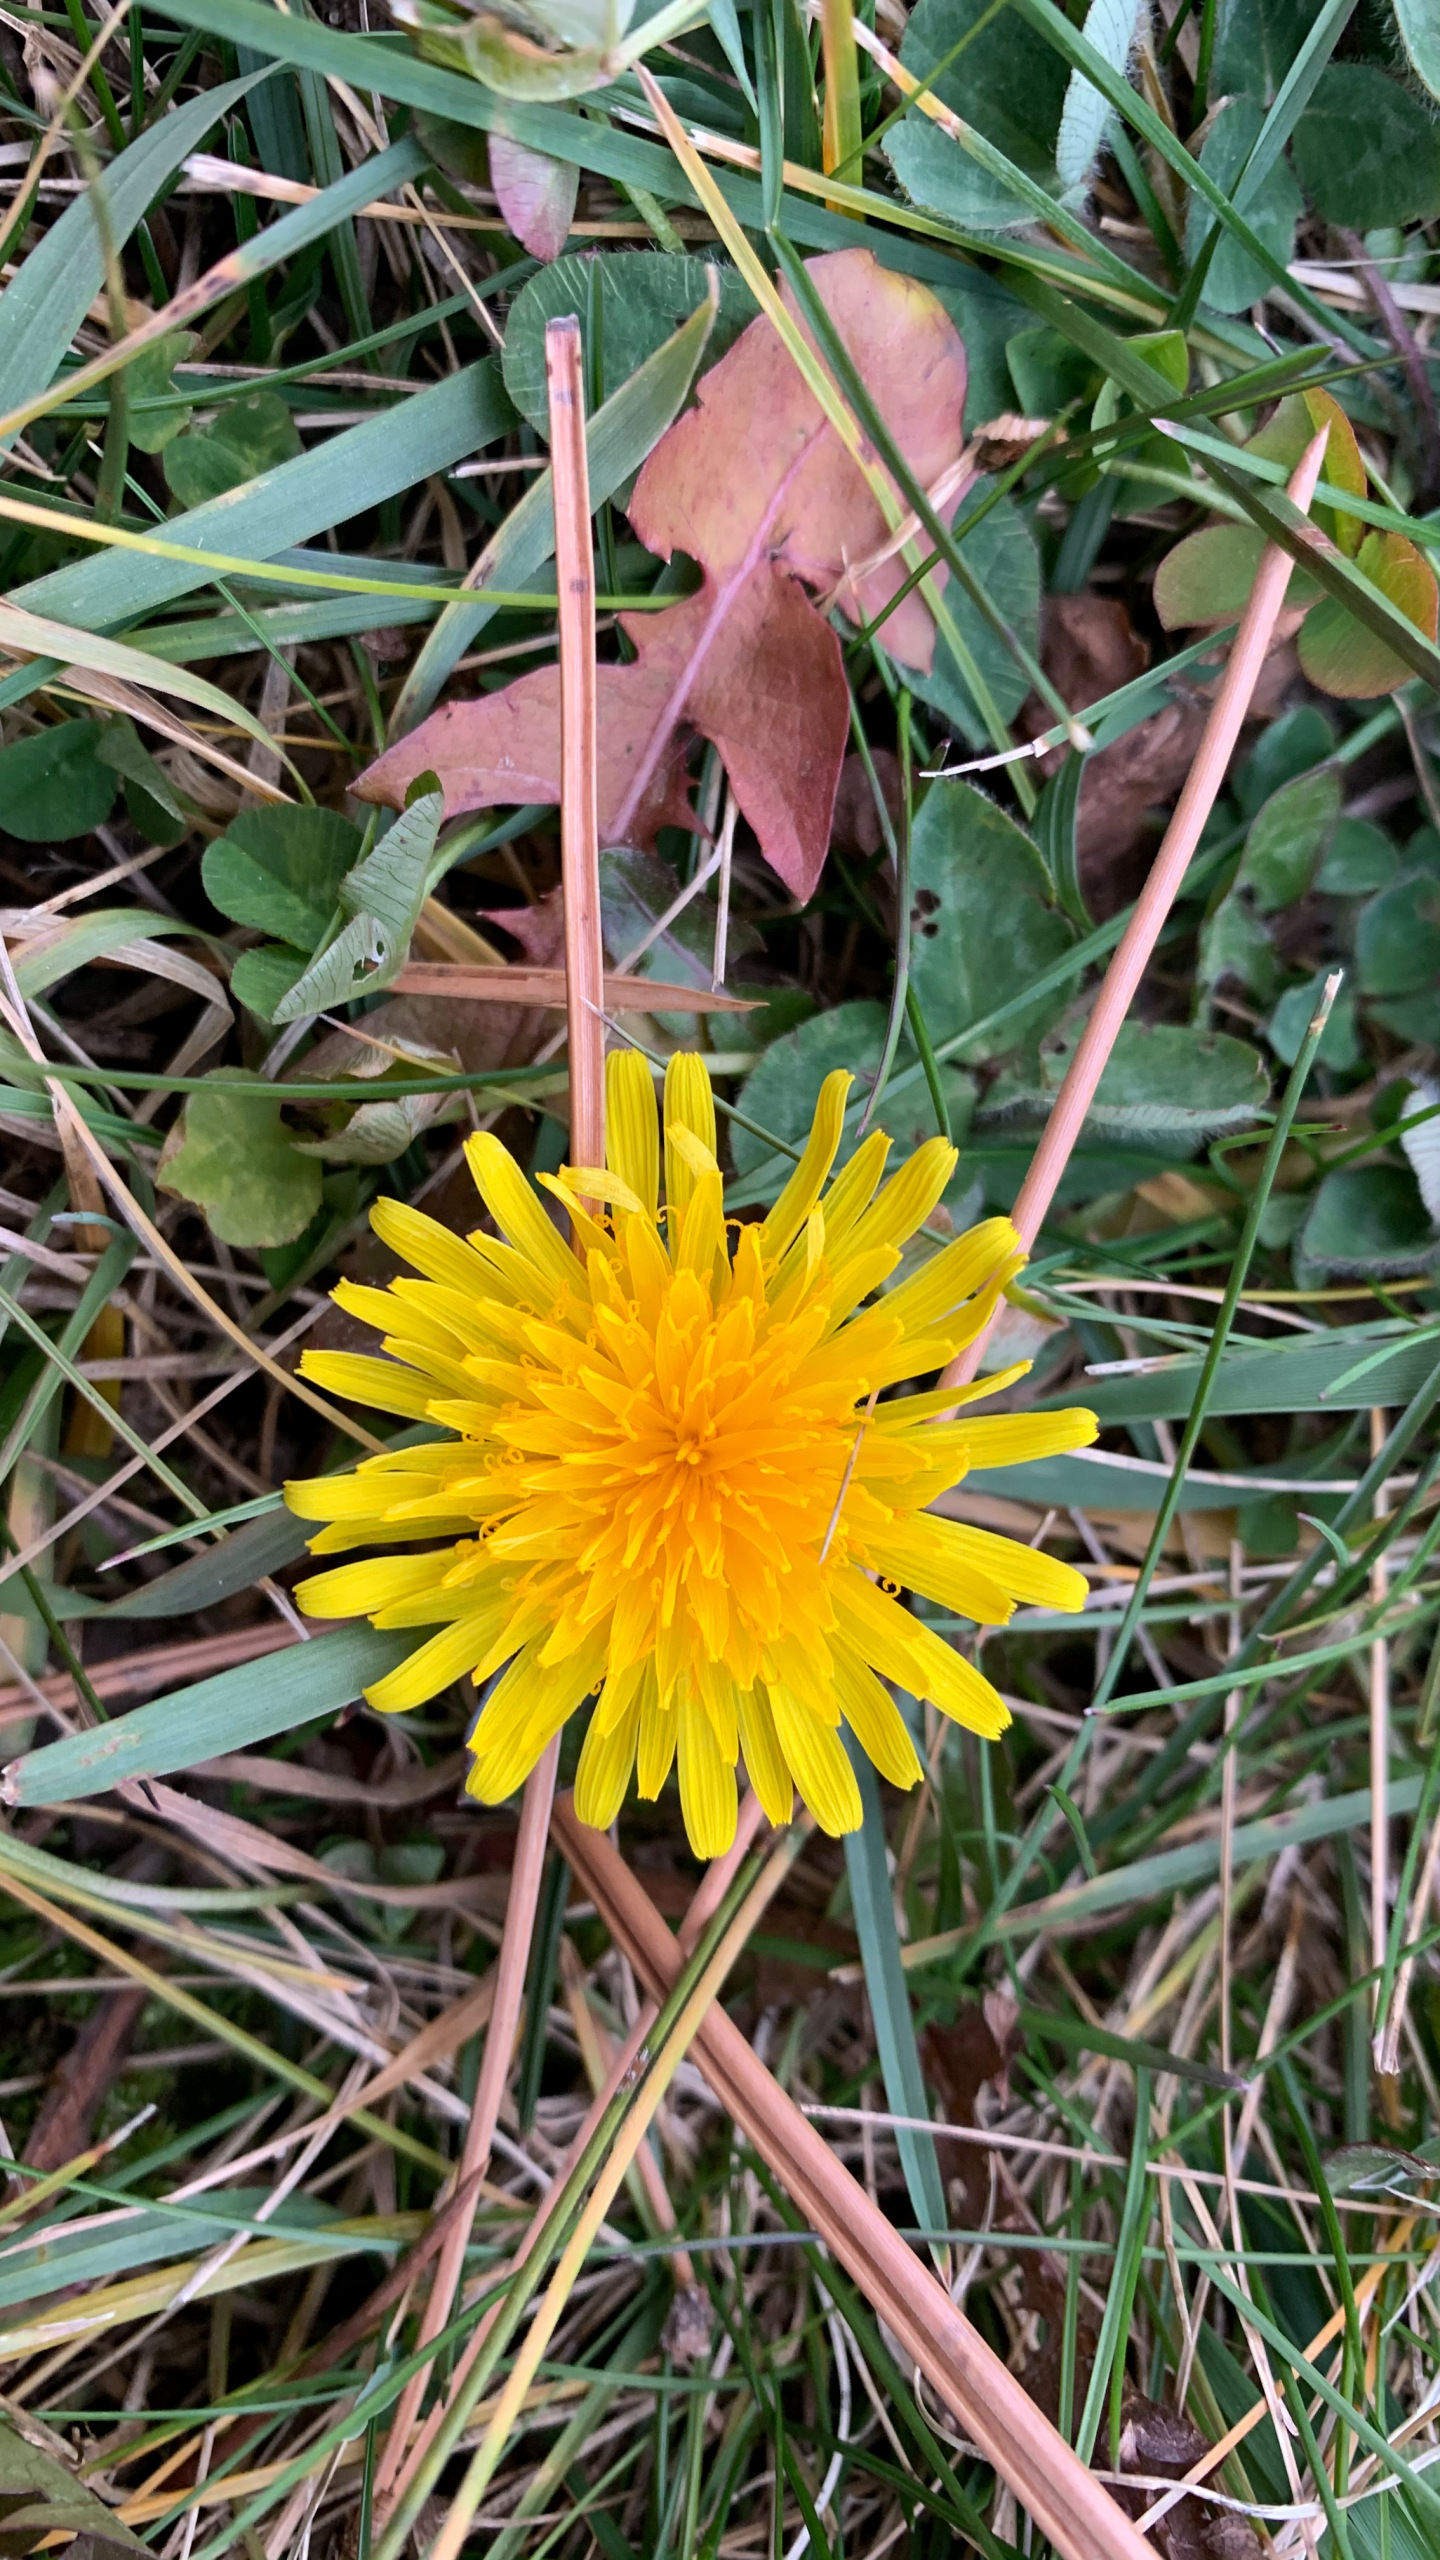dandelion yellow: (265, 1051, 1106, 1851)
